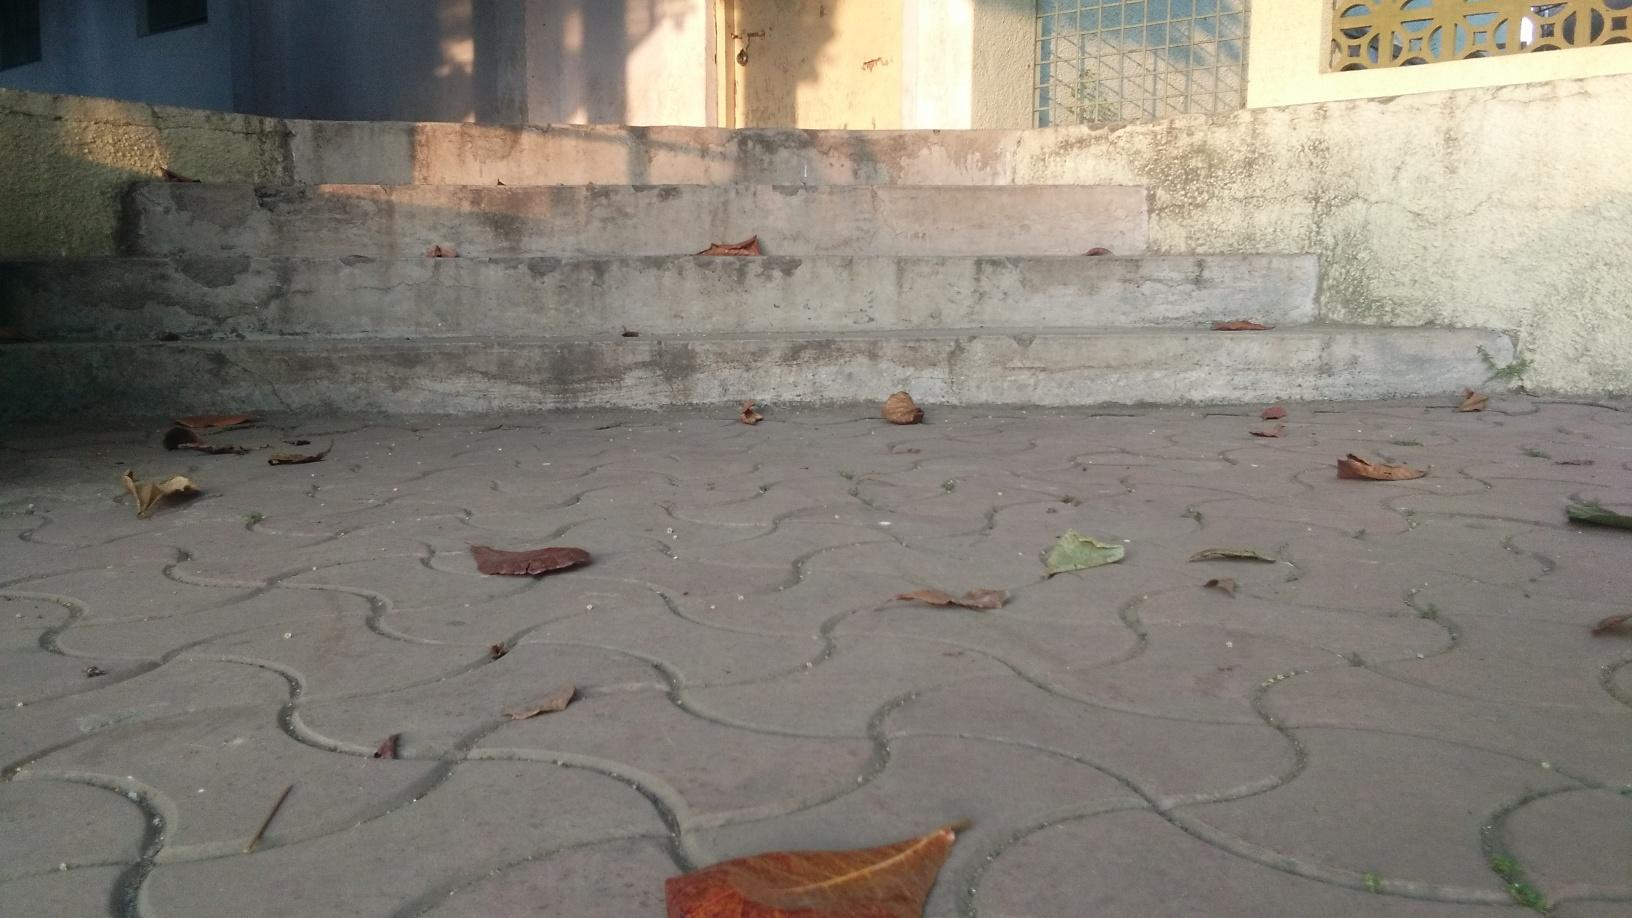Bench: (0, 113, 1531, 391)
